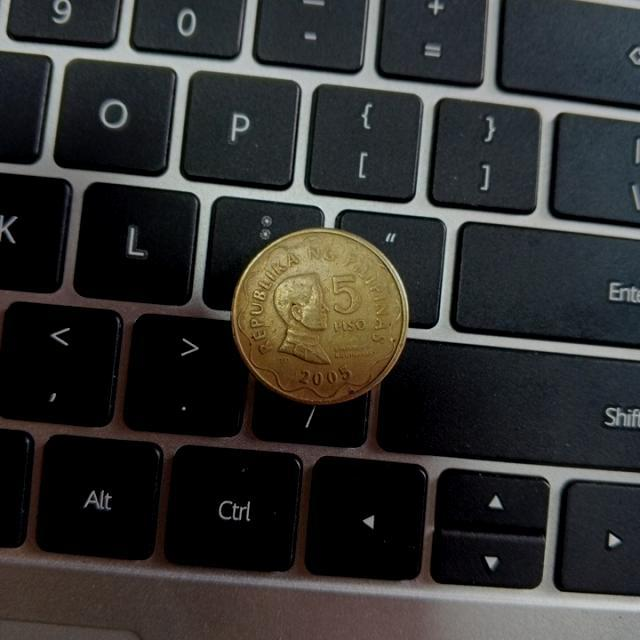5 peso-old: (228, 221, 417, 412)
